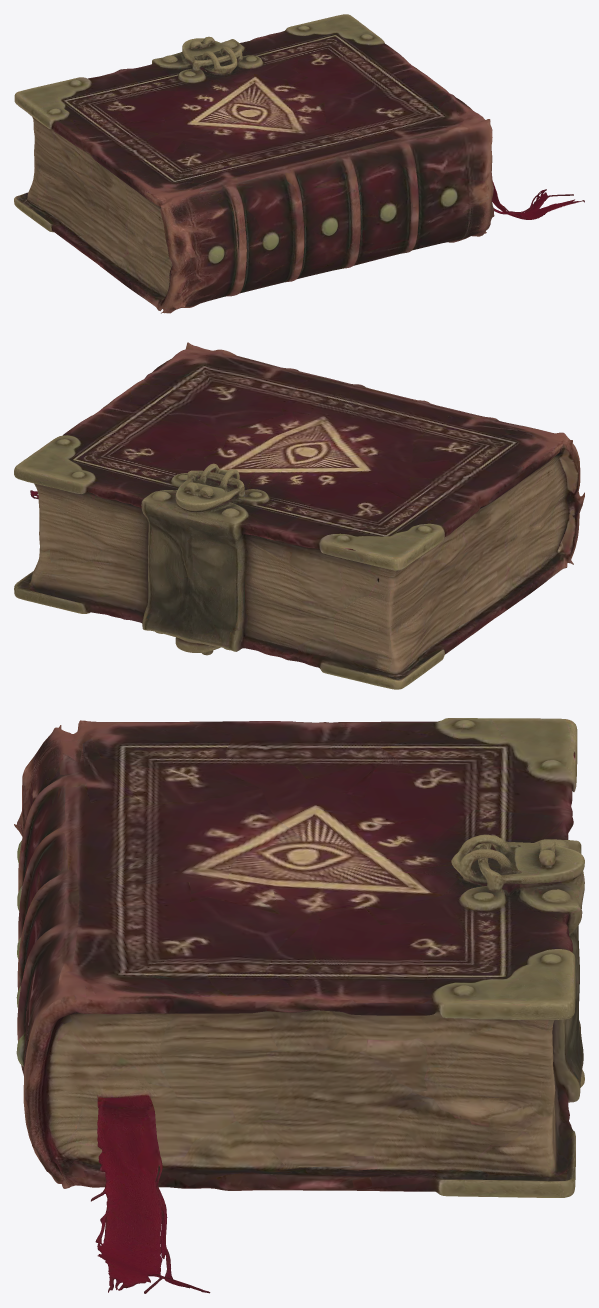
The model's file is grimoire.glb.
3 views of the same model, one above another, from view 1: azimuth 30°, elevation 25°; view 2: azimuth 150°, elevation 25°; view 3: azimuth 270°, elevation 25° (orthographic). The views are drawn at different scales.
Visible parts, largest first — view 1: Mesh_0; view 2: Mesh_0; view 3: Mesh_0.
Boxes of the visible parts, left/top/right/bottom form: Mesh_0: left=14, top=14, right=584, bottom=313; Mesh_0: left=14, top=342, right=584, bottom=689; Mesh_0: left=14, top=718, right=584, bottom=1293.
Size of the model in its own units: 1.89 by 0.613 by 1.23.
1 material, 1 textured.
